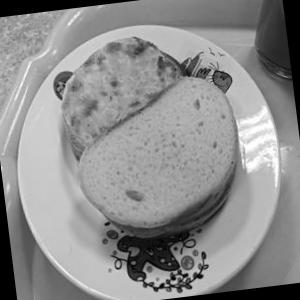bread: (62, 44, 253, 250)
cheese_sandwich: (36, 25, 202, 152)
